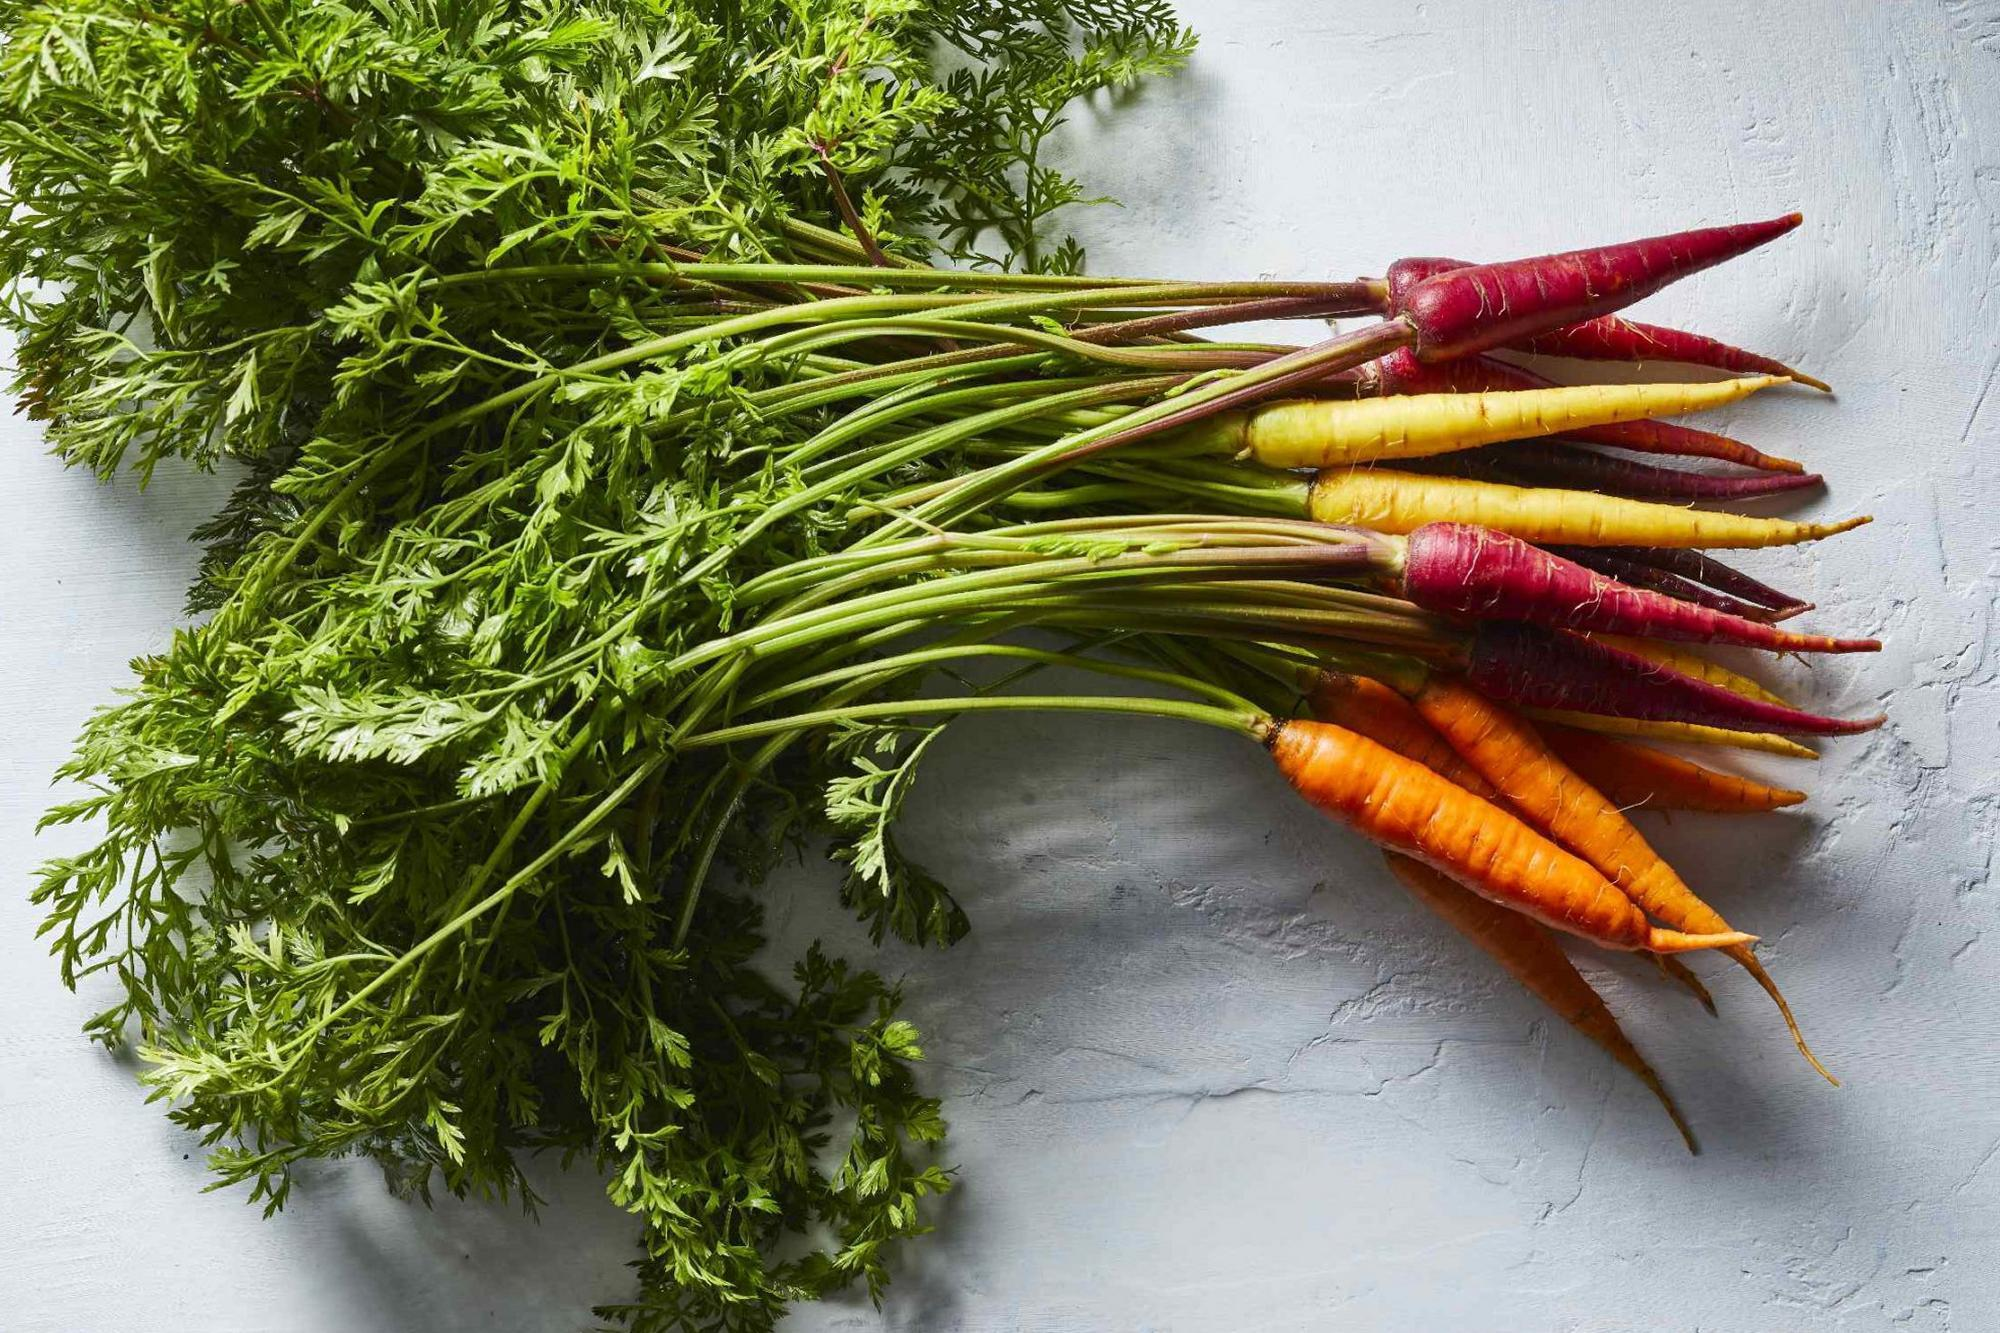carrot: (1249, 669, 1722, 1021), (1271, 405, 1805, 558)
